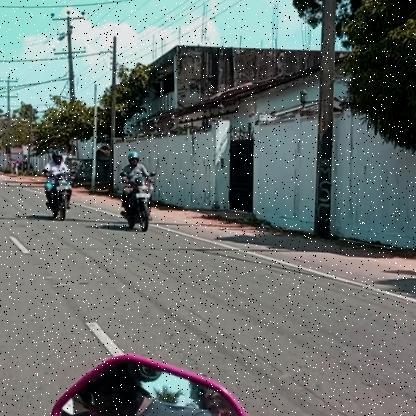motorcycle: (119, 176, 156, 235), (42, 172, 76, 222)
